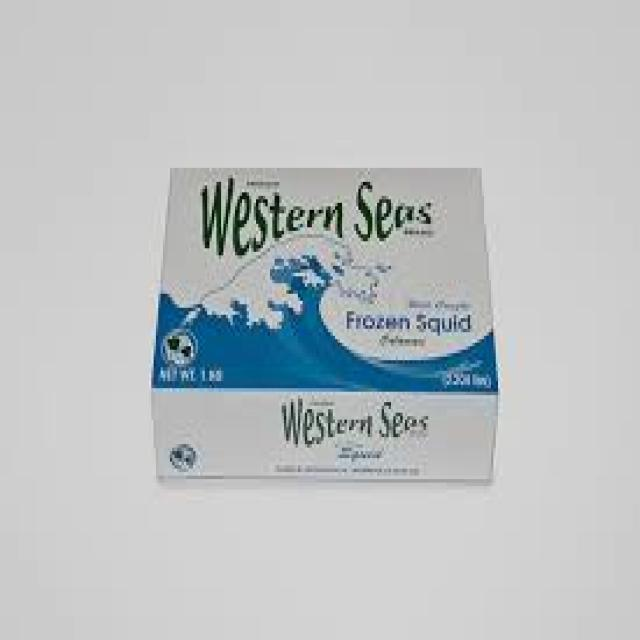cardboard: (151, 164, 498, 483)
